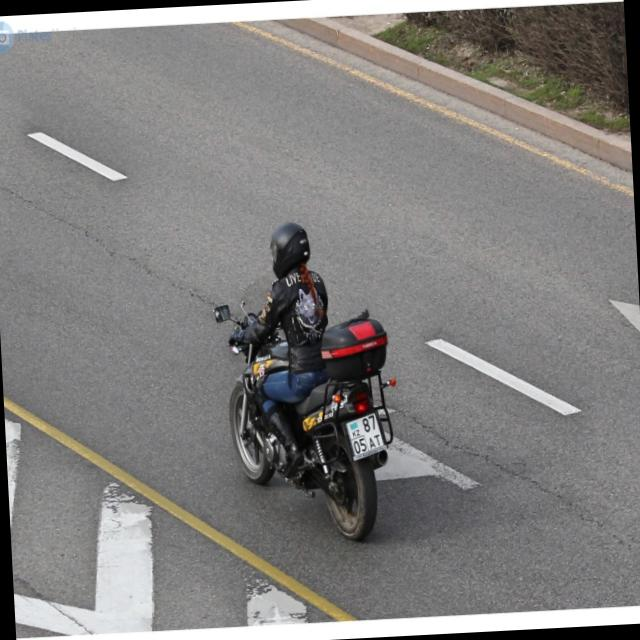License-plate: (342, 410, 386, 464)
